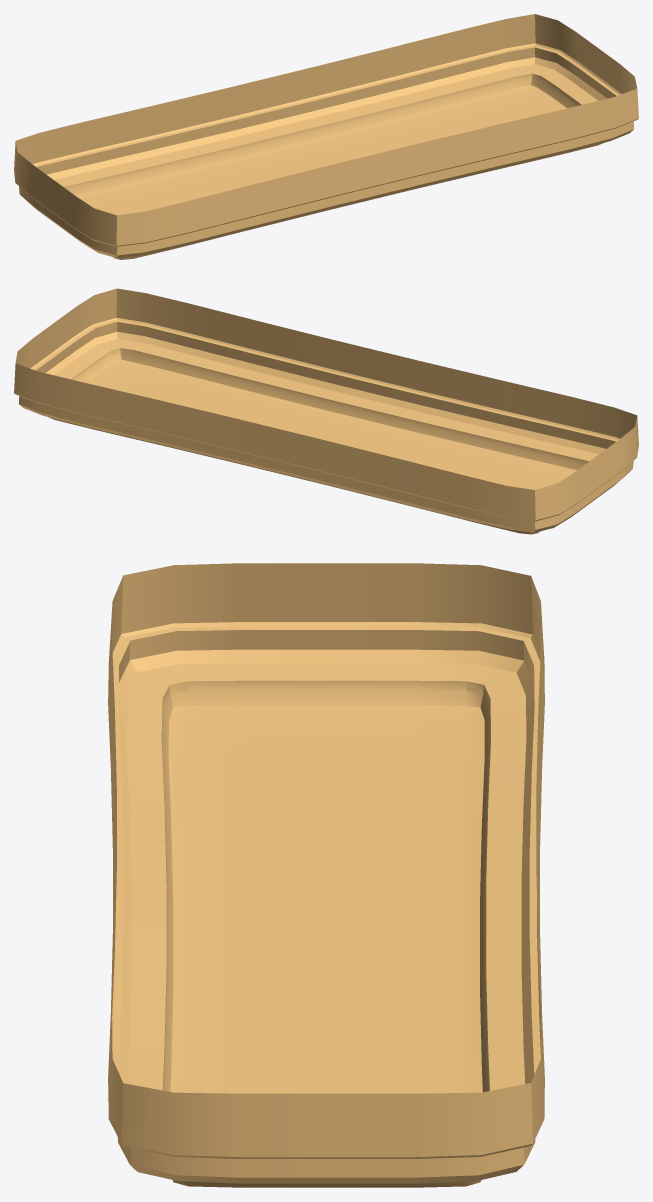
File: Rectangle_Light.fbx
3 views of the same model, one above another, from view 1: azimuth 30°, elevation 25°; view 2: azimuth 150°, elevation 25°; view 3: azimuth 270°, elevation 25° (orthographic). The views are drawn at different scales.
Visible parts, largest first — view 1: PM3D_Cylinder3D2_1; view 2: PM3D_Cylinder3D2_1; view 3: PM3D_Cylinder3D2_1.
Part boxes in pixels (box(x1,y1,x2,y2)): PM3D_Cylinder3D2_1: box(14, 14, 638, 259); PM3D_Cylinder3D2_1: box(14, 288, 638, 534); PM3D_Cylinder3D2_1: box(108, 563, 544, 1187).
Bounding box in the file's own units: 139 × 14.52 × 47.91.
